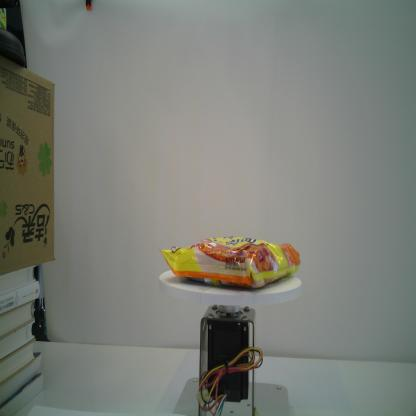Instant Noodles: (158, 233, 300, 294)
